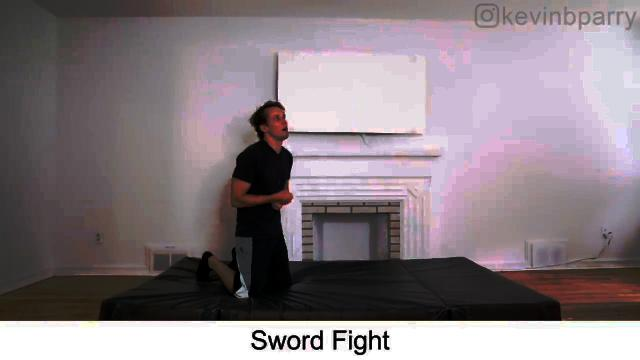jatuh: (185, 92, 309, 308)
